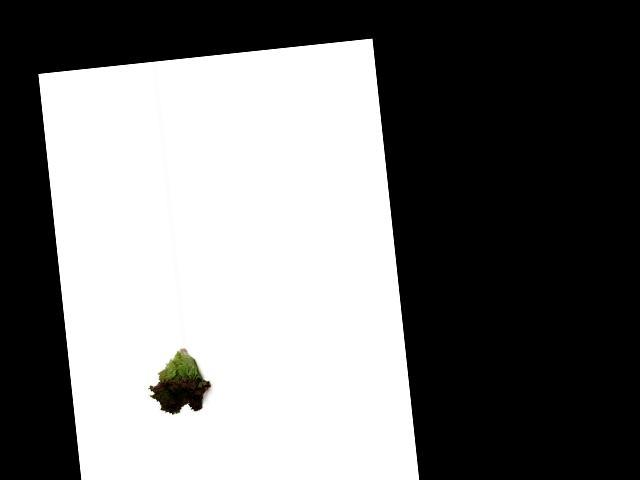lettuce: (142, 344, 219, 425)
